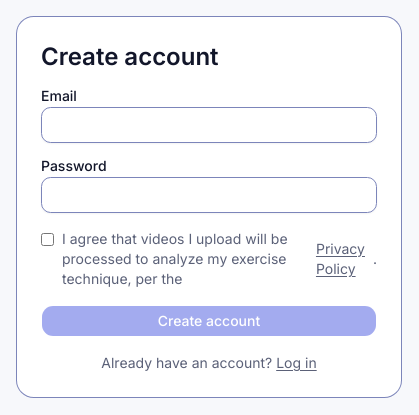
Test: RegisterPage › disables submit until the consent checkbox is checked
Type "me@example.com" into the field labelled "Email".
click(209, 125); type("me@example.com")  # box [41,107,377,143]
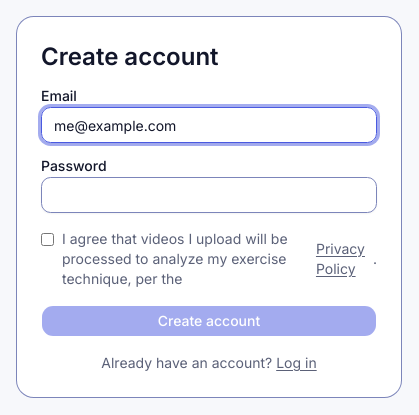
Type "correct-horse-battery-staple" into the password field labelled "Password".
click(209, 195); type("correct-horse-battery-staple")  # box [41,177,377,213]
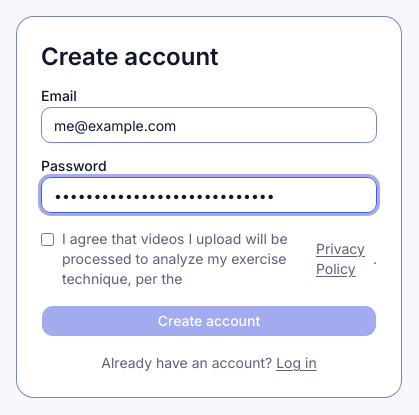
Expected: the button "Create account" is disabled, [41,305,377,337]
Click the checkbox labelled "I agree".
click(48, 240)  # box [41,233,54,246]
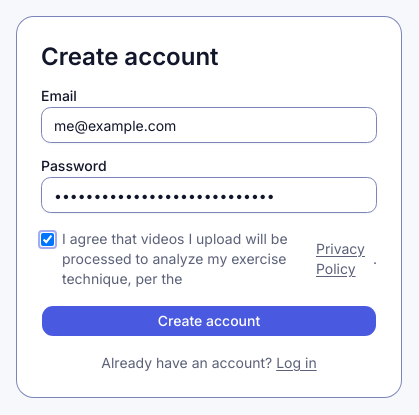
Result: the button "Create account" is enabled at [41,305,377,337]
